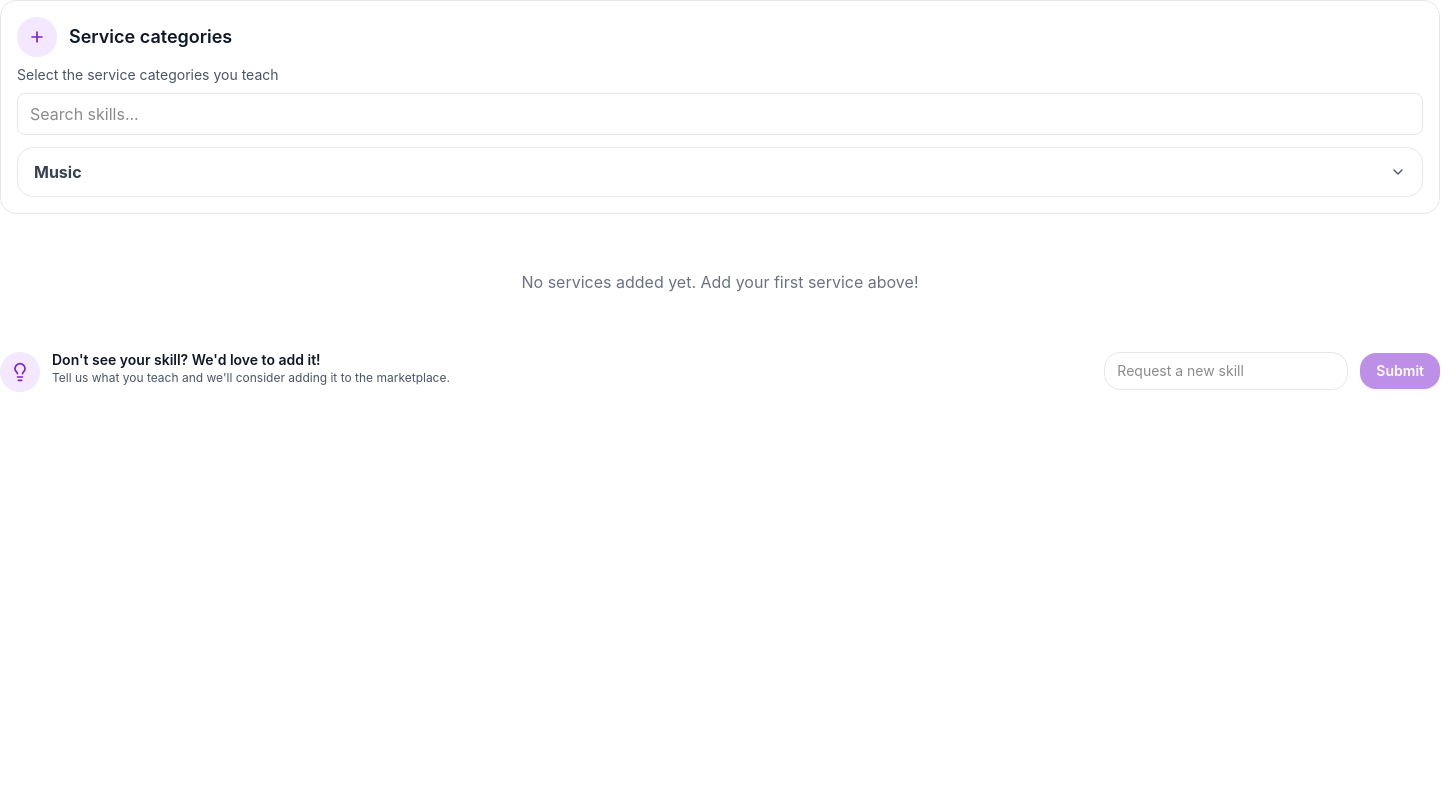
Test: SkillsPricingInline › lets instructors select and remove services
Click the button "Music": (58, 172) [18,148,1422,196]
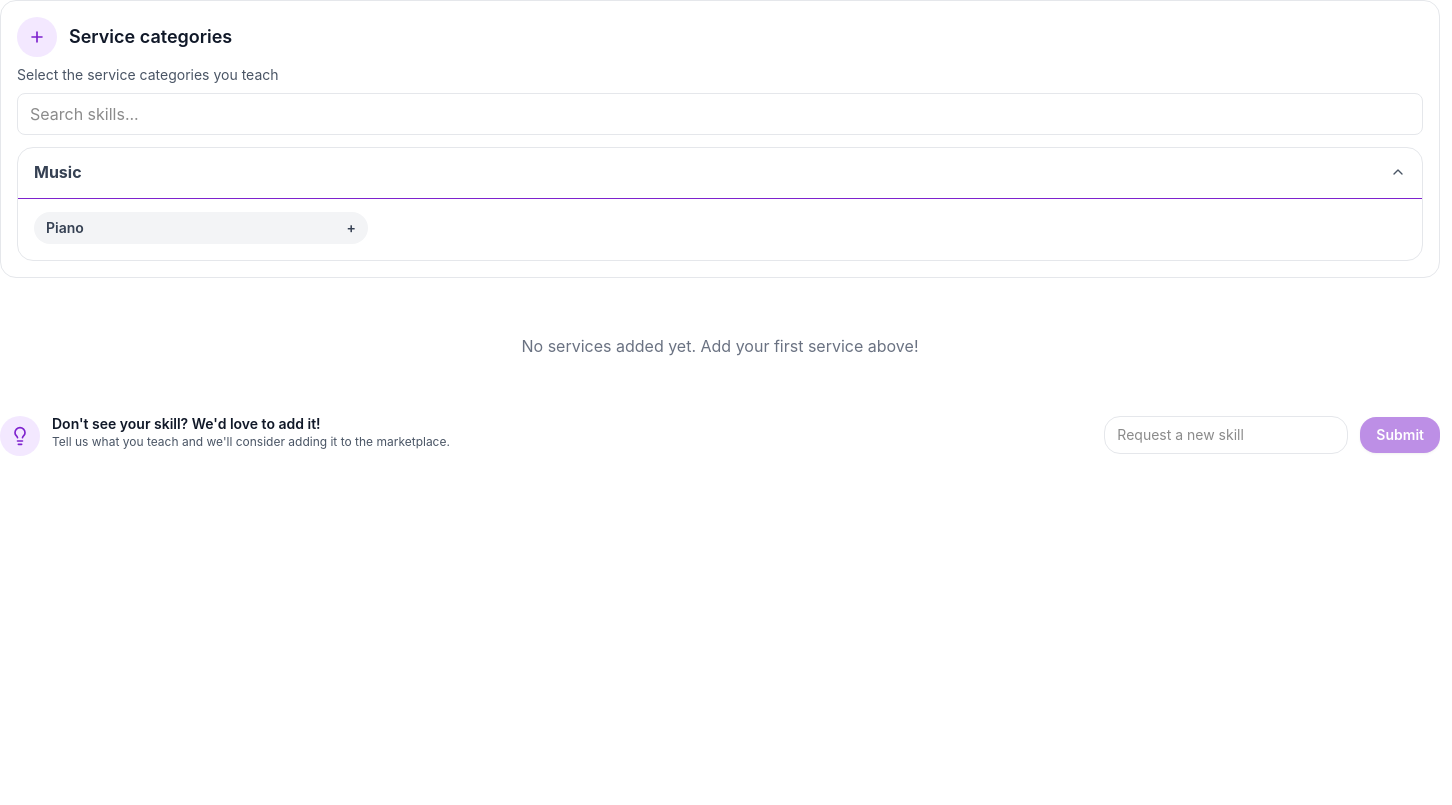
Click the button "Piano +": (65, 228) [34,212,368,244]
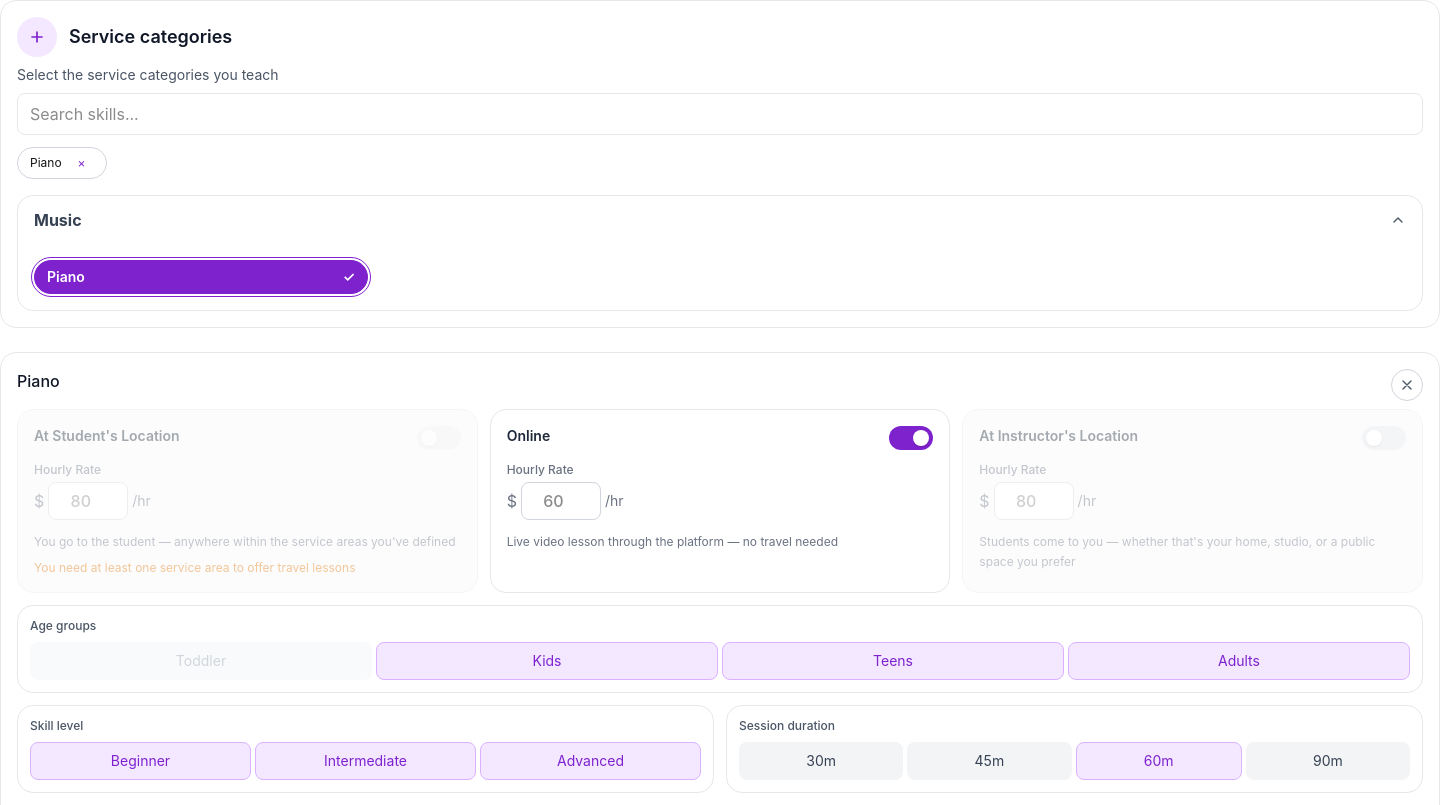
Expected: the button named "remove piano" is shown
Click the button named "remove piano": (82, 163) [70,151,94,175]
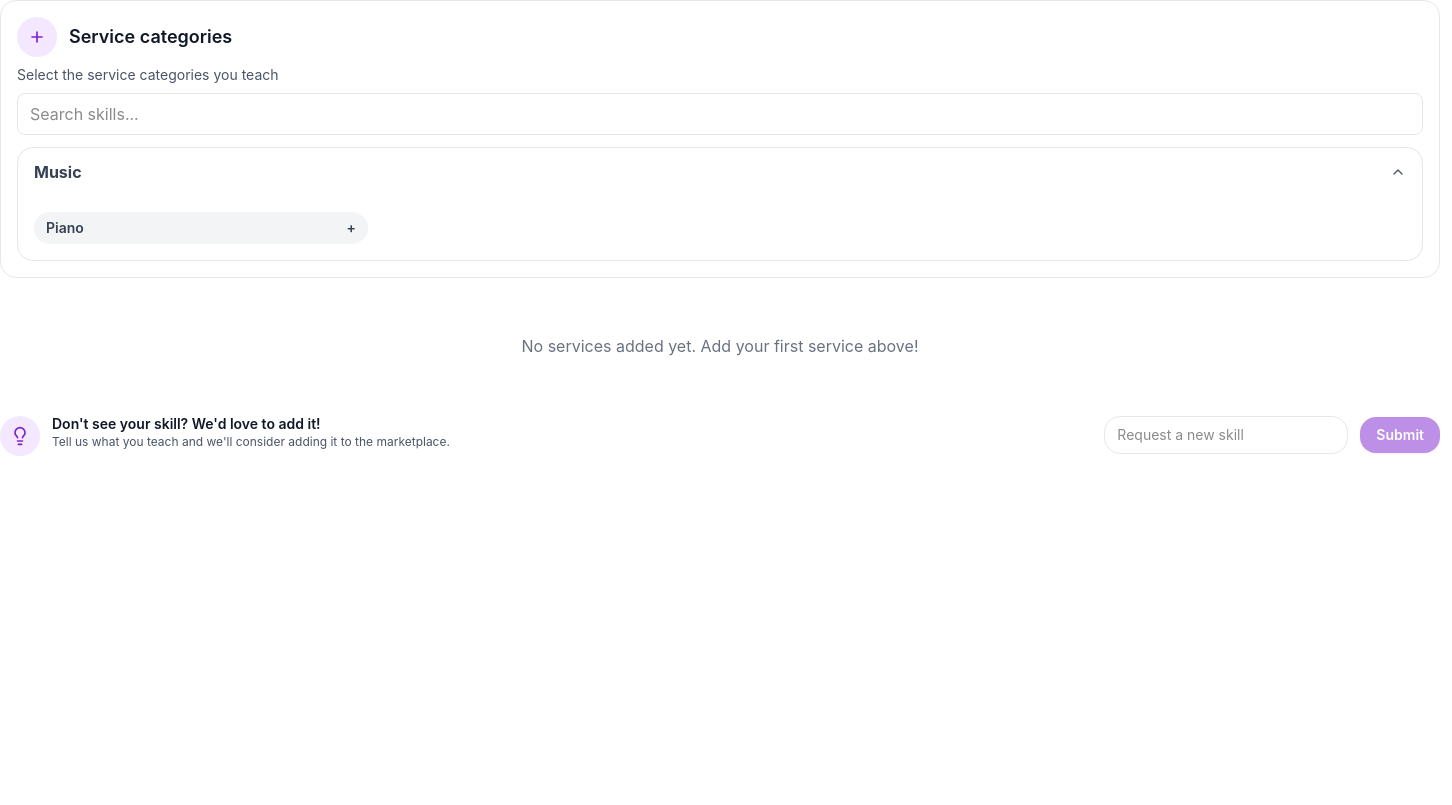
Expected: the text "No services added yet. Add your first service above!" is shown, [522,336,918,356]
